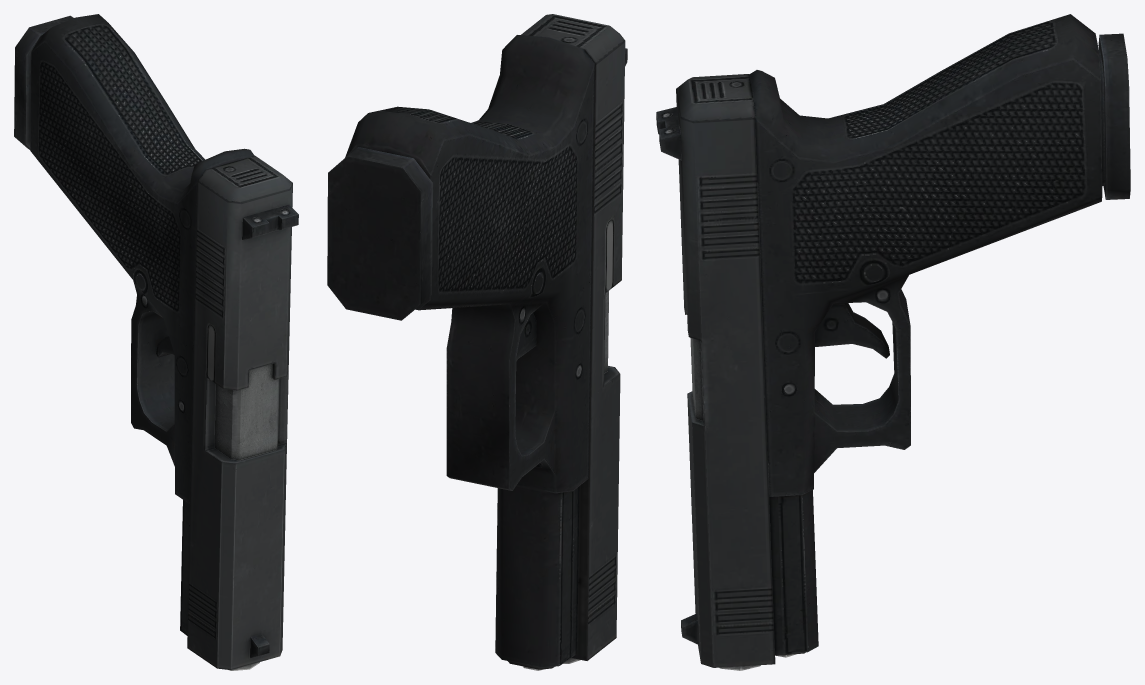
File: pistol.glb
3 views of the same model, side by side, from view 1: azimuth 30°, elevation 25°; view 2: azimuth 150°, elevation 25°; view 3: azimuth 270°, elevation 25° (orthographic). The views are drawn at different scales.
Parts seen in each view (by area): view 1: pistol_pistolLow_0, slide_pistolLow_0, clip_pistolLow_0; view 2: pistol_pistolLow_0, slide_pistolLow_0, clip_pistolLow_0, trigger_pistolLow_0; view 3: pistol_pistolLow_0, slide_pistolLow_0, clip_pistolLow_0, trigger_pistolLow_0.
Part boxes in pixels (box(x1,y1,x2,y2)): pistol_pistolLow_0: box(30, 14, 279, 670); slide_pistolLow_0: box(187, 156, 298, 670); clip_pistolLow_0: box(14, 15, 73, 149); pistol_pistolLow_0: box(345, 35, 608, 670); slide_pistolLow_0: box(508, 14, 627, 669); clip_pistolLow_0: box(327, 147, 432, 320); trigger_pistolLow_0: box(516, 313, 536, 361); pistol_pistolLow_0: box(690, 14, 1102, 670); slide_pistolLow_0: box(656, 74, 805, 667); clip_pistolLow_0: box(1098, 33, 1130, 199); trigger_pistolLow_0: box(815, 303, 889, 358).
Size of the model in its own units: 0.0322 by 0.1797 by 0.1234.
1 material, 1 textured.
